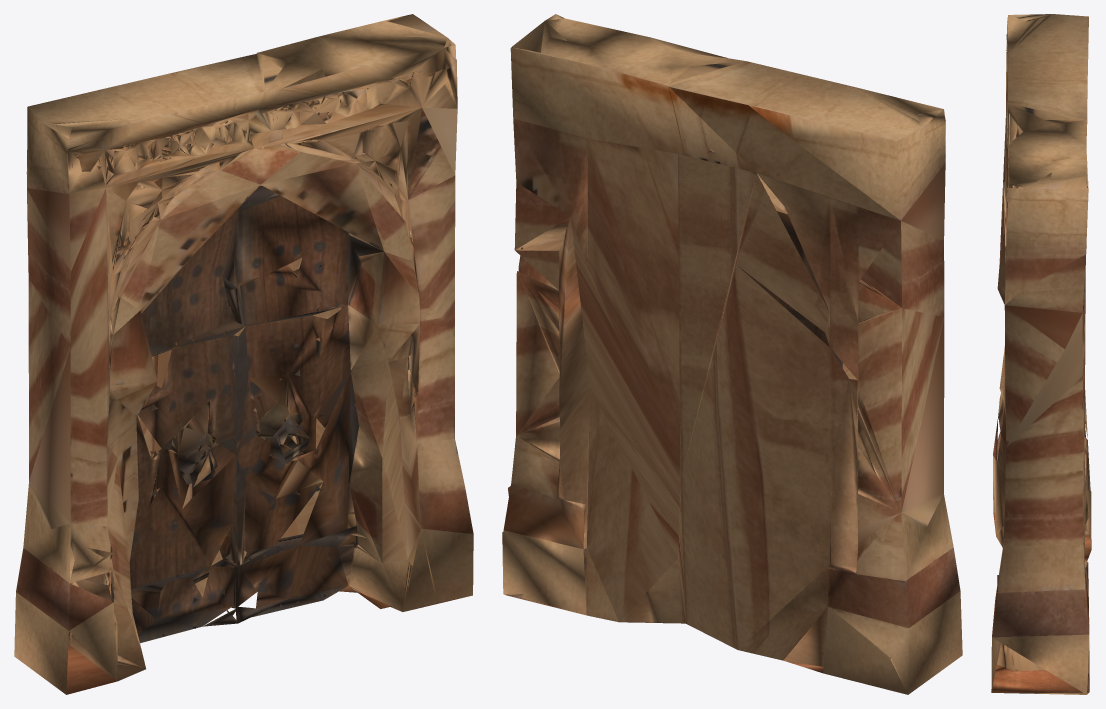
The model's file is cairo_door_arch.glb.
3 views of the same model, side by side, from view 1: azimuth 30°, elevation 25°; view 2: azimuth 150°, elevation 25°; view 3: azimuth 270°, elevation 25° (orthographic). The views are drawn at different scales.
Visible parts, largest first — view 1: prop; view 2: prop; view 3: prop.
Part boxes in pixels (x1,y1,x2,y2): prop: (14, 14, 473, 694); prop: (502, 14, 962, 694); prop: (991, 14, 1091, 694).
Size of the model in its own units: 2.48 by 3.2 by 0.5753.
Materials: 1 (1 with a texture image).
